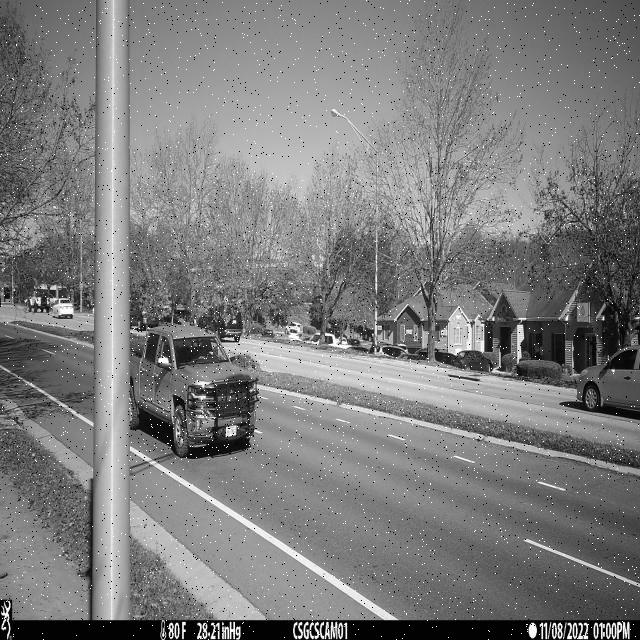Pickup: (129, 321, 259, 458)
